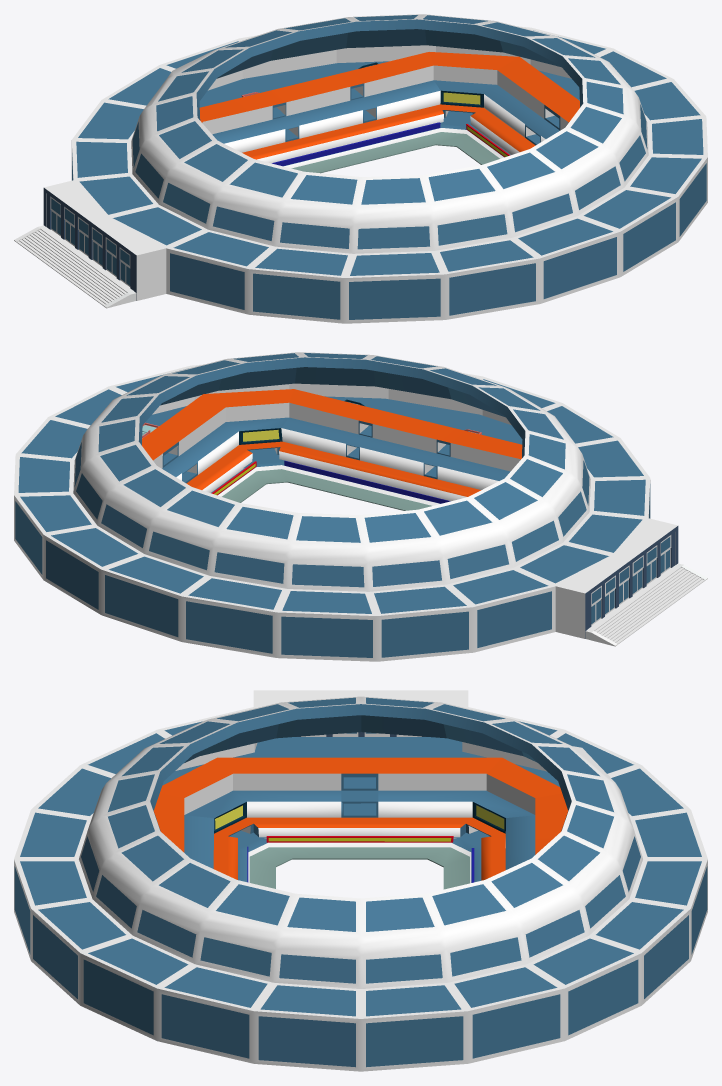
Rendered from SM_Stadium.fbx.
The picture shows the model from 3 angles, top to bottom: view 1: azimuth 30°, elevation 25°; view 2: azimuth 150°, elevation 25°; view 3: azimuth 270°, elevation 25°; orthographic projection. The views are drawn at different scales.
Visible parts, largest first — view 1: SM_Stadium; view 2: SM_Stadium; view 3: SM_Stadium.
Boxes of the visible parts, left/top/right/bottom form: SM_Stadium: left=14, top=14, right=707, bottom=323; SM_Stadium: left=14, top=352, right=707, bottom=661; SM_Stadium: left=14, top=690, right=707, bottom=1071.
Bounding box in the file's own units: 20070 × 3000 × 17036.
